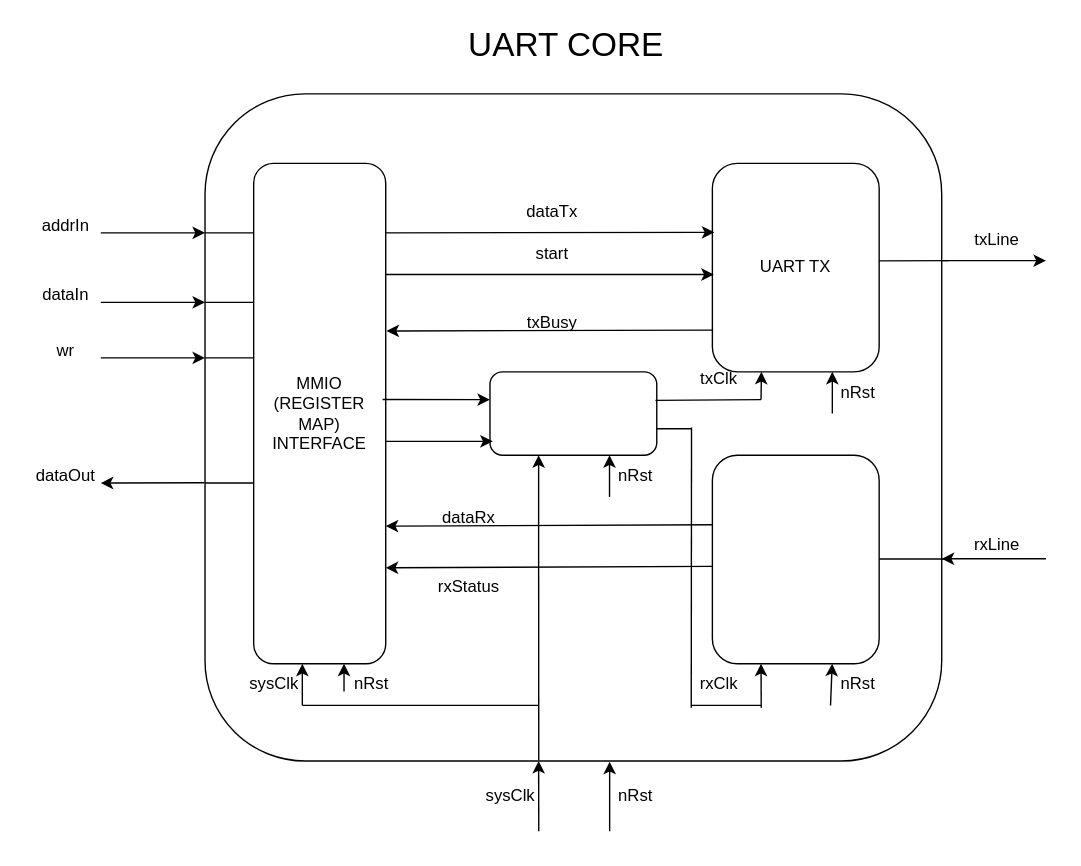
The diagram is 1081 pixels wide and 866 high, and some of its shapes have lost their labels. Each missing label, with the centre of its shape:
BAUD GENERATOR: the point at 573,412
UART RX: the point at 795,559
